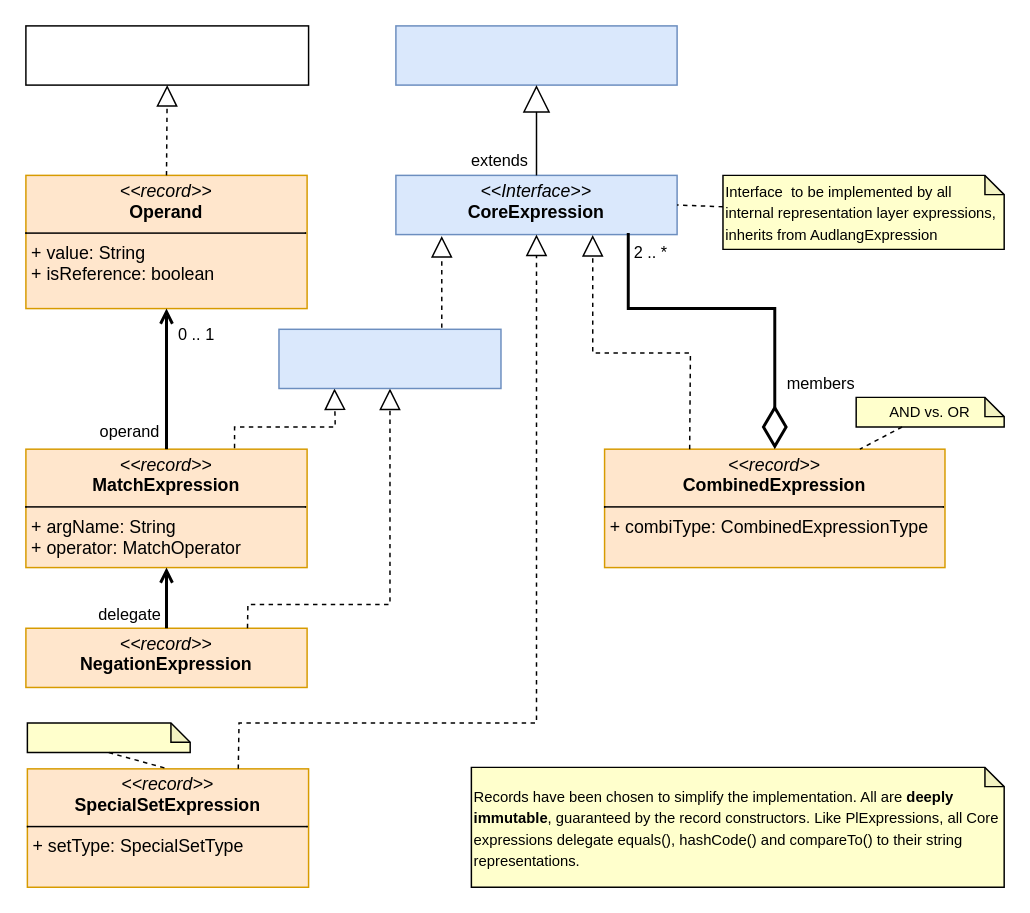
This 1030x913 diagram has some shape labels left out. Each missing label, with the box of its shape:
<<Interface>> AudlangExpression: (394, 24, 677, 85)
<<Interface>> AudlangFormattable: (24, 24, 309, 85)
<<Interface>> SimpleExpression: (278, 328, 501, 388)
<ALL> vs. <NONE>: (26, 722, 190, 753)
